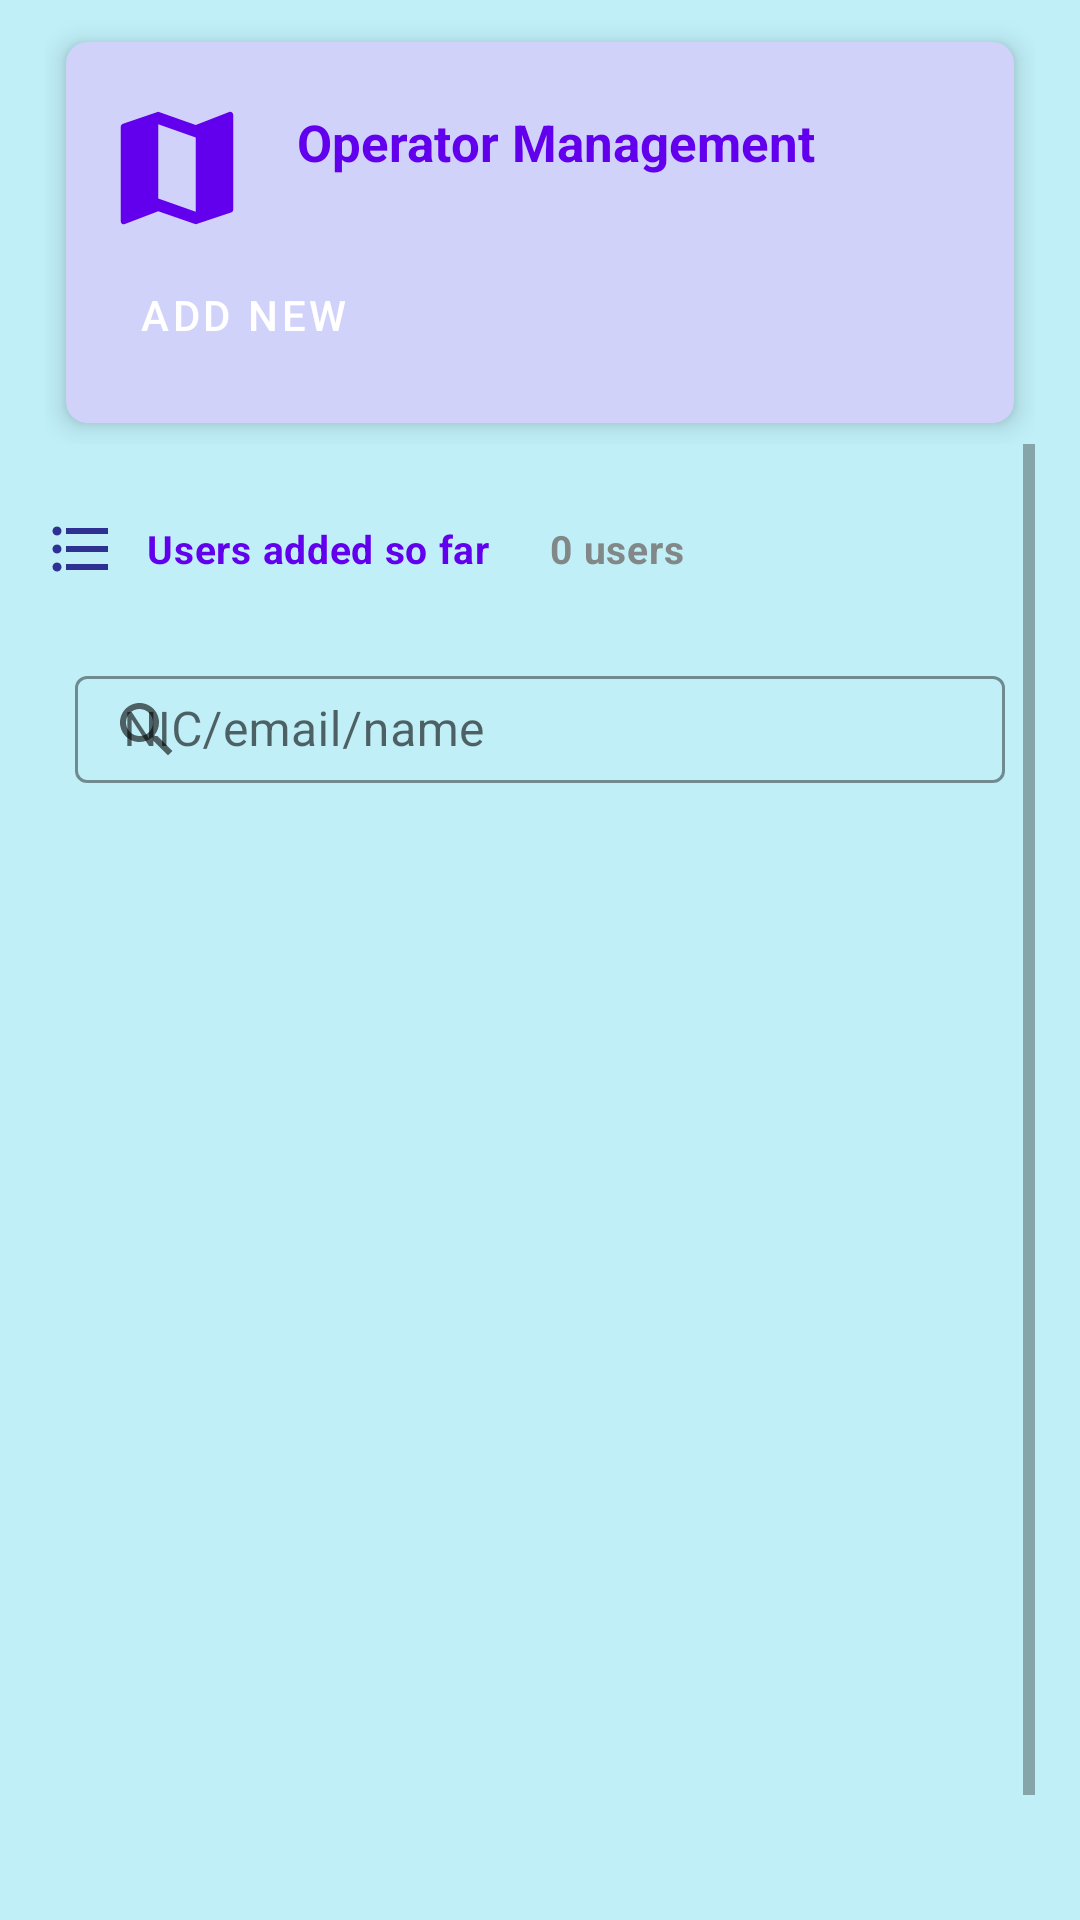

Icon click points for this 1080px×1920px phone screenshot, format point (x, y):
format list bulleted: point (80, 549)
map: point (177, 168)
